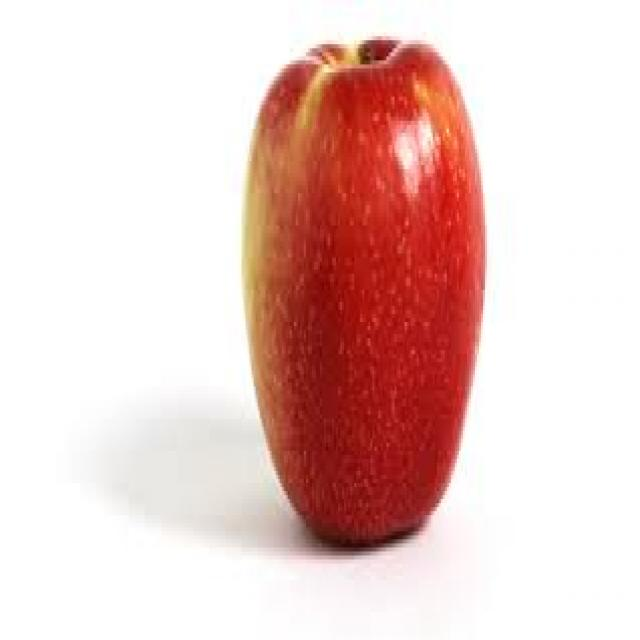organic waste: (238, 36, 485, 548)
